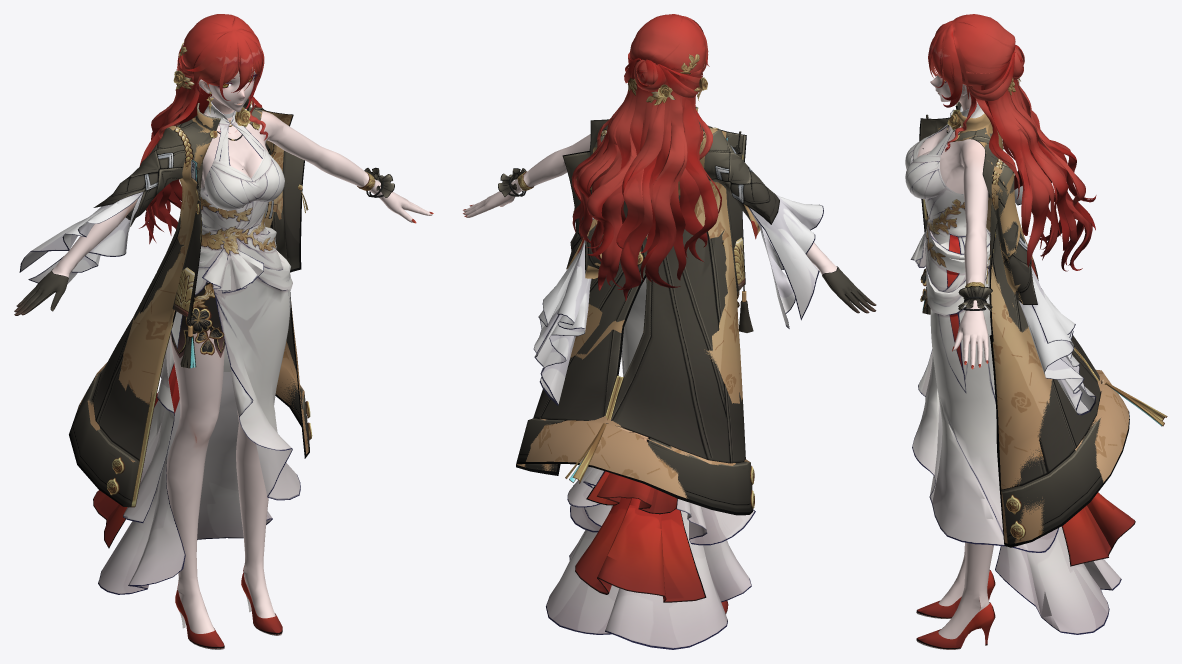
File: himeko.glb
3 views of the same model, side by side, from view 1: azimuth 30°, elevation 25°; view 2: azimuth 150°, elevation 25°; view 3: azimuth 270°, elevation 25° (orthographic). The views are drawn at different scales.
Bounding box in the file's own units: 1.74 × 2.41 × 0.9376.
10 materials, 4 textured.
